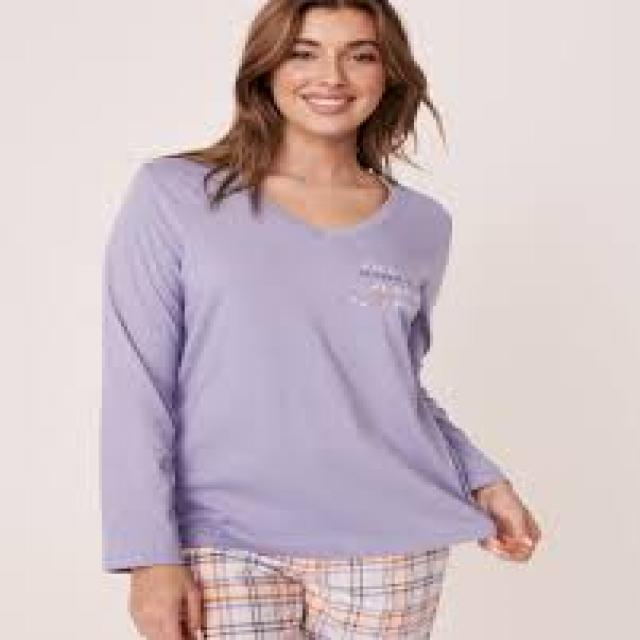plain: (108, 133, 510, 555)
